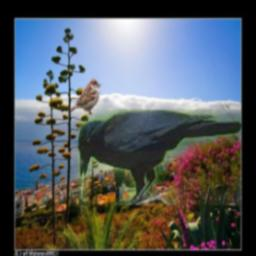Crow: (77, 109, 240, 205)
Sparrow: (70, 79, 101, 115)
